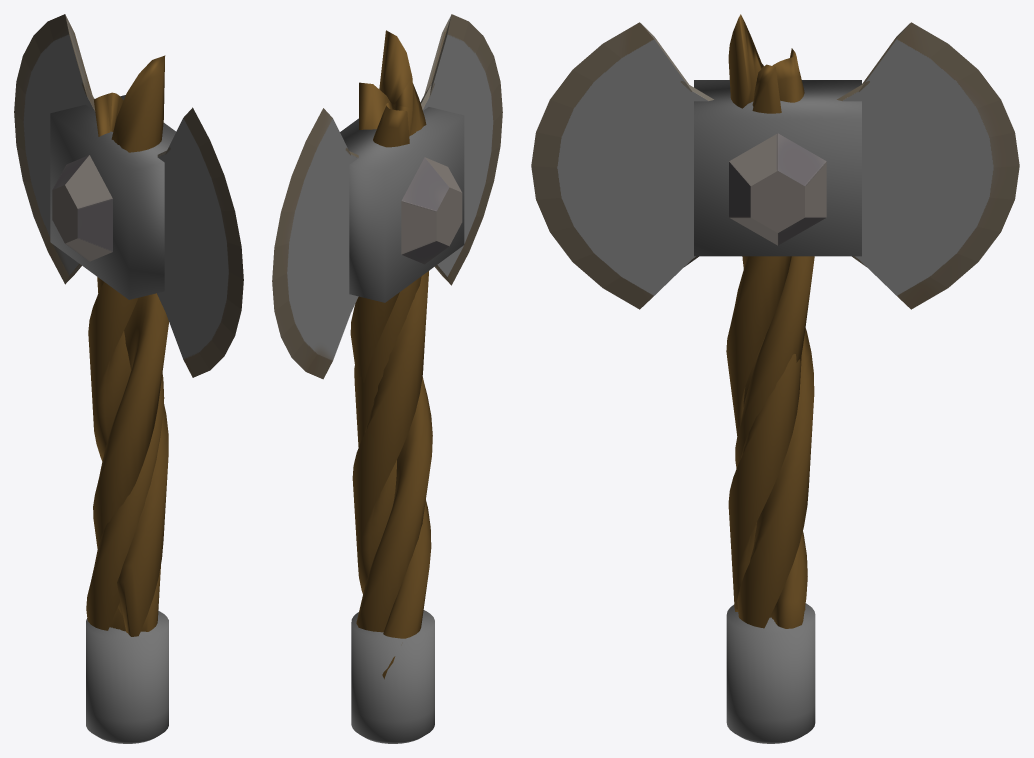
Rendered from icepickaxe.glb.
3 views of the same model, side by side, from view 1: azimuth 30°, elevation 25°; view 2: azimuth 150°, elevation 25°; view 3: azimuth 270°, elevation 25° (orthographic). The views are drawn at different scales.
Parts seen in each view (by area): view 1: BézierCurve, Circle, Cone.001, Cylinder; view 2: BézierCurve, Circle, Cone.001, Cylinder; view 3: Circle, BézierCurve, Cone.001, Cylinder.
Boxes of the visible parts, x1,y1,x2,y2 form: BézierCurve: (86,55,168,636); Circle: (14,14,243,377); Cone.001: (50,95,175,299); Cylinder: (86,610,168,743); BézierCurve: (350,30,432,679); Circle: (272,14,502,379); Cone.001: (340,107,464,302); Cylinder: (351,610,434,743); Circle: (531,22,1019,309); BézierCurve: (726,14,814,628); Cone.001: (694,80,861,256); Cylinder: (726,603,815,743).
Bounding box in the file's own units: 0.4085 × 2.13 × 1.3.
Materials: 4 (4 with a texture image).
